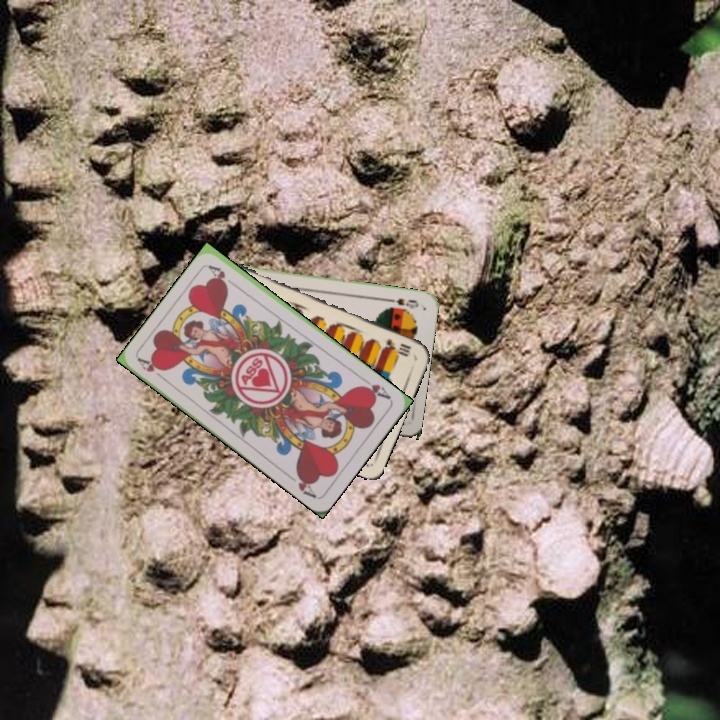E10: (375, 334, 413, 359)
HA: (356, 373, 393, 402), (135, 354, 170, 384)
SO: (382, 294, 421, 311)
